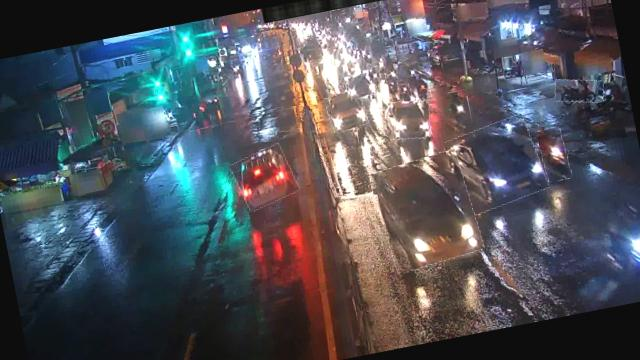Bike: (536, 126, 572, 184), (552, 72, 606, 108), (448, 90, 473, 132), (415, 71, 432, 98), (384, 73, 400, 96), (401, 82, 414, 102), (370, 65, 382, 84)
Car: (370, 149, 484, 273), (444, 114, 548, 214), (230, 144, 299, 211), (384, 97, 434, 143), (324, 88, 368, 132), (346, 71, 377, 100)
